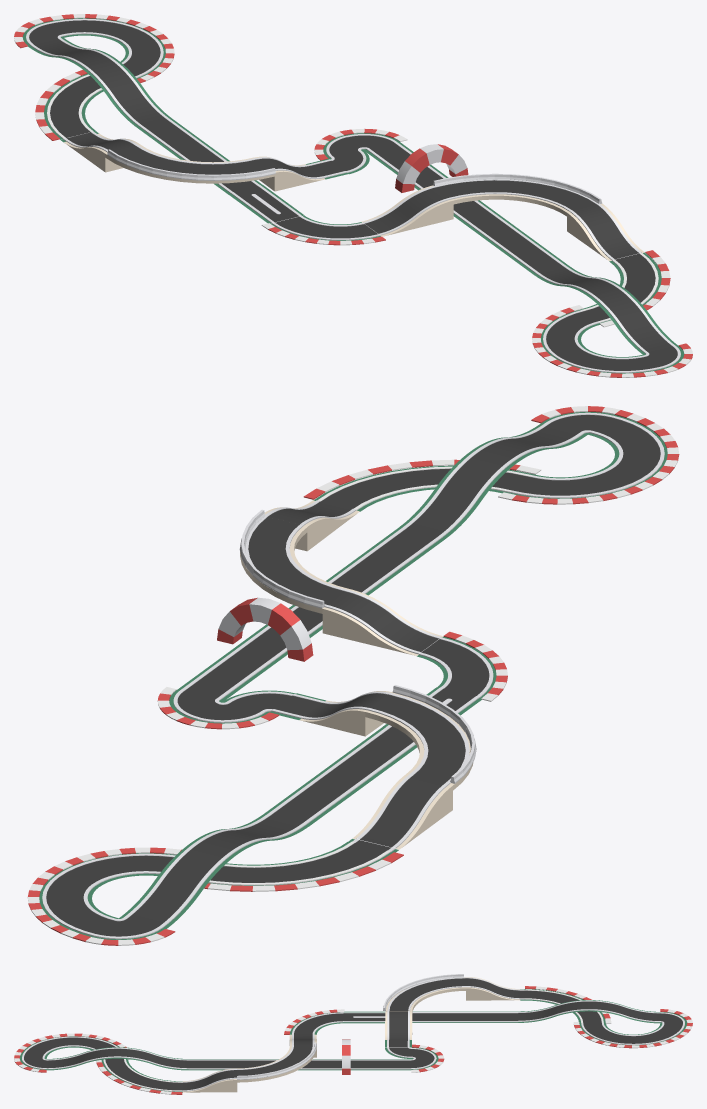
Rendered from YOL.glb.
3 renders of one model, top to bottom at view 1: azimuth 30°, elevation 25°; view 2: azimuth 150°, elevation 25°; view 3: azimuth 270°, elevation 25°, orthographic. The views are drawn at different scales.
Parts seen in each view (by area): view 1: mesh_id43, mesh_id149, mesh_id48, mesh_id15, mesh_id171, mesh_id154, mesh_id122, mesh_id38, mesh_id58, mesh_id108, mesh_id127, mesh_id113 (+20 smaller); view 2: mesh_id43, mesh_id149, mesh_id48, mesh_id122, mesh_id171, mesh_id15, mesh_id154, mesh_id176, mesh_id58, mesh_id108, mesh_id20, mesh_id113 (+23 smaller); view 3: mesh_id43, mesh_id149, mesh_id48, mesh_id58, mesh_id171, mesh_id122, mesh_id15, mesh_id42, mesh_id154, mesh_id214, mesh_id20, mesh_id47 (+23 smaller).
Part boxes in pixels (box(x1,y1,x2,y2)): mesh_id43: box(370, 143, 564, 273); mesh_id149: box(34, 39, 164, 124); mesh_id48: box(541, 267, 672, 352); mesh_id15: box(436, 180, 596, 210); mesh_id171: box(113, 146, 269, 174); mesh_id154: box(50, 76, 100, 137); mesh_id122: box(141, 118, 258, 192); mesh_id38: box(573, 204, 638, 259); mesh_id58: box(584, 253, 655, 321); mesh_id108: box(365, 187, 449, 233); mesh_id127: box(47, 20, 149, 42); mesh_id113: box(275, 217, 377, 238); mesh_id43: box(184, 528, 437, 699); mesh_id149: box(126, 816, 300, 927); mesh_id48: box(407, 424, 579, 536); mesh_id122: box(270, 727, 413, 823); mesh_id171: box(370, 694, 465, 782); mesh_id15: box(248, 517, 344, 604); mesh_id154: box(211, 843, 386, 882); mesh_id176: box(360, 775, 444, 847); mesh_id58: box(321, 468, 529, 508); mesh_id108: box(327, 591, 438, 651); mesh_id20: box(592, 417, 660, 474); mesh_id113: box(421, 639, 489, 696); mesh_id43: box(188, 1060, 411, 1068); mesh_id149: box(518, 1001, 660, 1020); mesh_id48: box(46, 1048, 188, 1068); mesh_id58: box(105, 1058, 182, 1090); mesh_id171: box(389, 978, 465, 1010); mesh_id122: box(412, 1013, 518, 1020); mesh_id15: box(237, 1045, 312, 1075); mesh_id42: box(188, 1059, 411, 1069); mesh_id154: box(524, 990, 601, 1022); mesh_id214: box(389, 1011, 407, 1039); mesh_id20: box(24, 1037, 73, 1058); mesh_id47: box(46, 1047, 188, 1069).
Bounding box in the file's own units: 0.512 × 0.0511 × 1.36.
124 materials, 124 textured.
